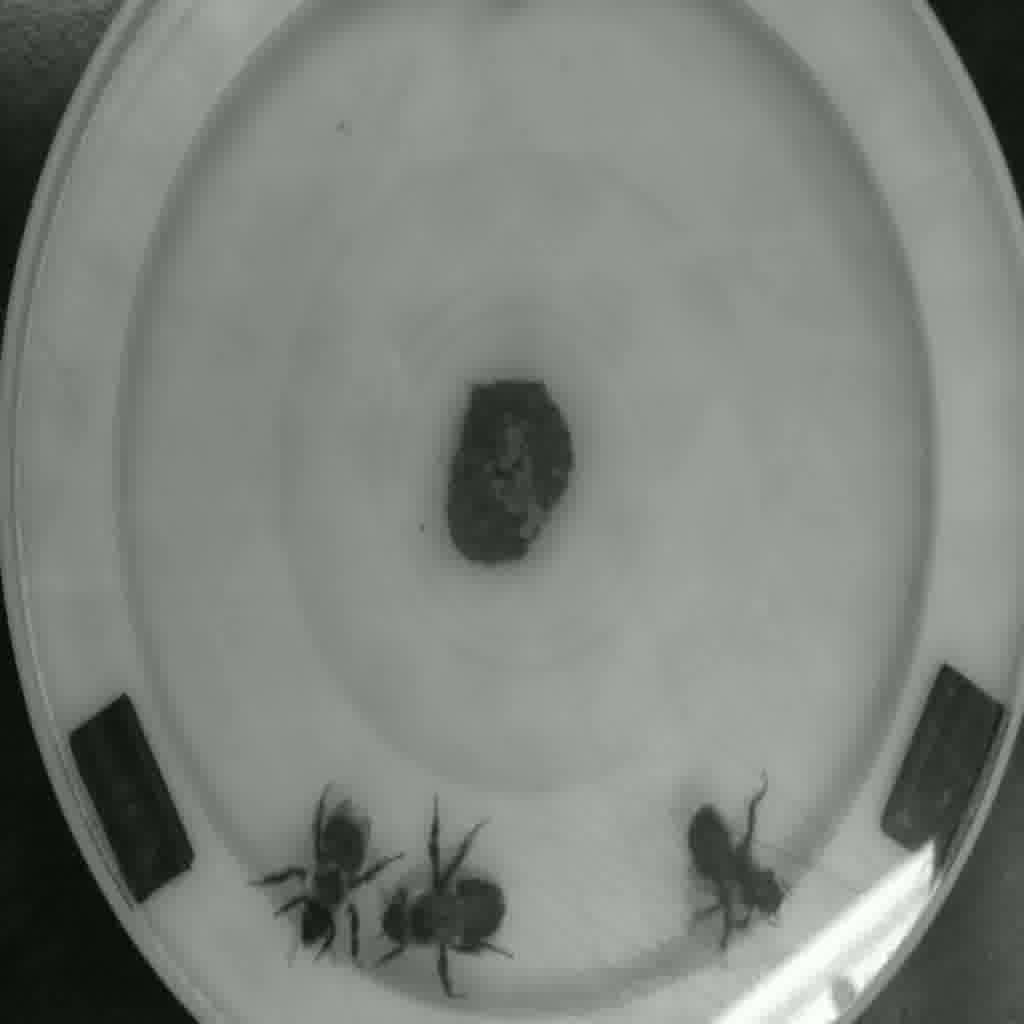bee: (380, 863, 516, 985), (671, 807, 800, 934), (284, 807, 385, 955)
